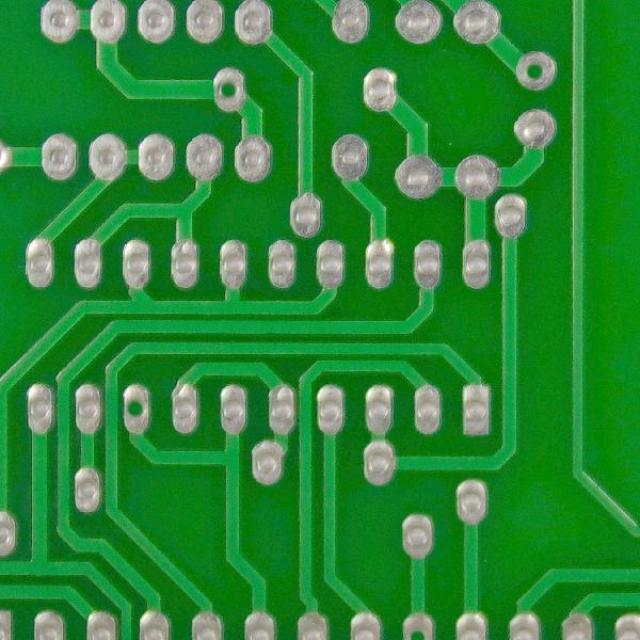Missing_Hole: (512, 46, 560, 94), (208, 65, 249, 113), (120, 381, 154, 434), (398, 610, 439, 639)
